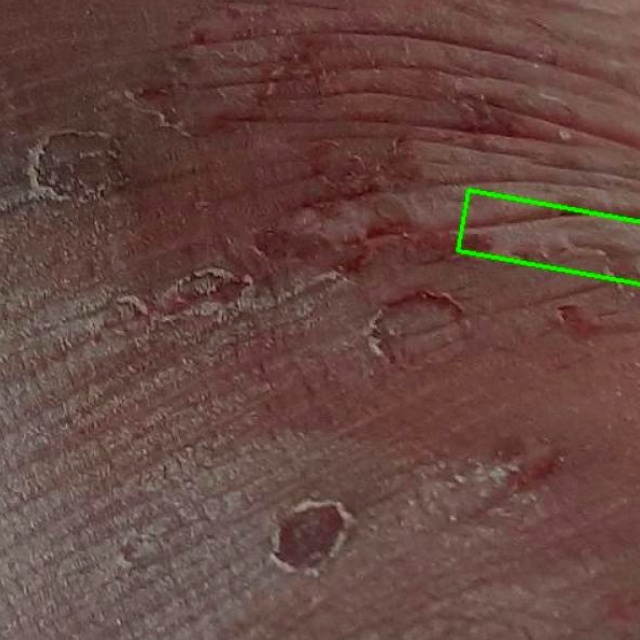Contact Dermatitis: (456, 189, 639, 285)
